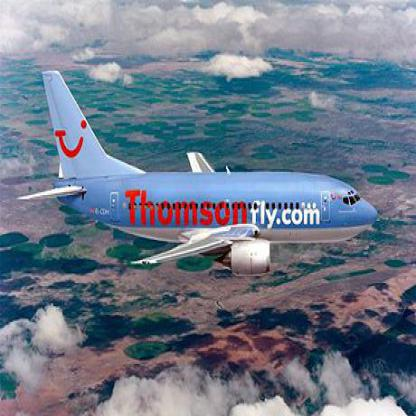CIV_Plane: (14, 59, 384, 276)
